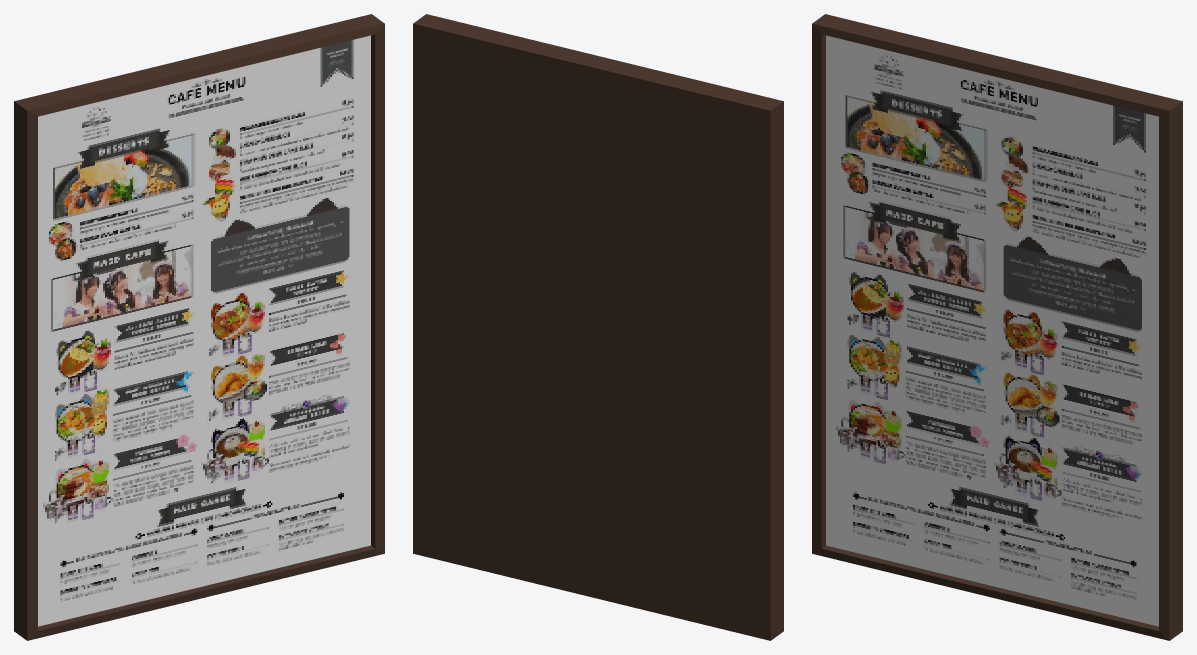
The model's file is canvas1.fbx.
3 renders of one model, left to right at view 1: azimuth 30°, elevation 25°; view 2: azimuth 150°, elevation 25°; view 3: azimuth 330°, elevation 25°, orthographic.
Parts seen in each view (by area): view 1: mesh_Canvas; view 2: mesh_Canvas; view 3: mesh_Canvas.
Boxes of the visible parts, x1,y1,x2,y2 form: mesh_Canvas: (14,14,384,640); mesh_Canvas: (413,14,783,640); mesh_Canvas: (812,14,1182,640).
Size of the model in its own units: 0.6 by 0.85 by 0.04.
Materials: 2 (1 with a texture image).
